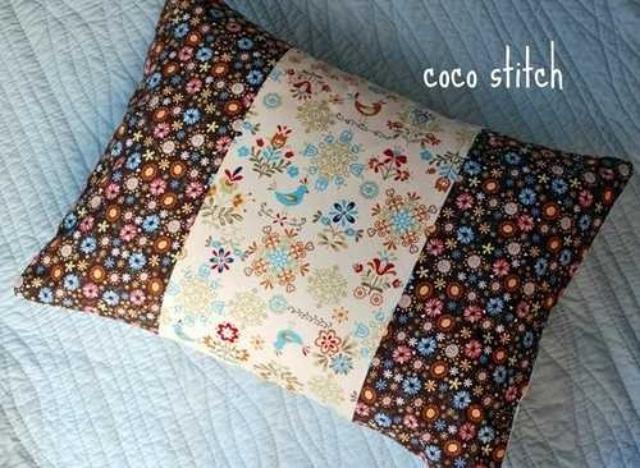pillow: (12, 0, 640, 468)
